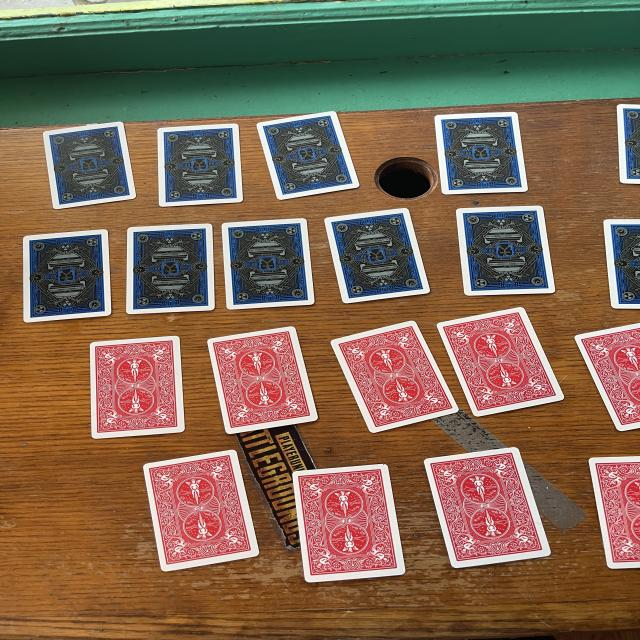card back: (425, 448, 551, 568), (143, 450, 260, 572), (331, 321, 459, 432), (436, 310, 564, 418), (293, 465, 405, 583), (207, 327, 318, 433), (326, 208, 430, 302), (91, 337, 184, 438), (257, 113, 358, 199), (456, 208, 555, 295), (224, 221, 314, 311), (23, 232, 109, 323), (44, 123, 134, 209), (127, 225, 212, 313), (436, 113, 526, 195), (575, 324, 639, 432), (157, 125, 243, 205), (591, 456, 640, 568), (604, 220, 640, 309), (619, 105, 640, 183)
